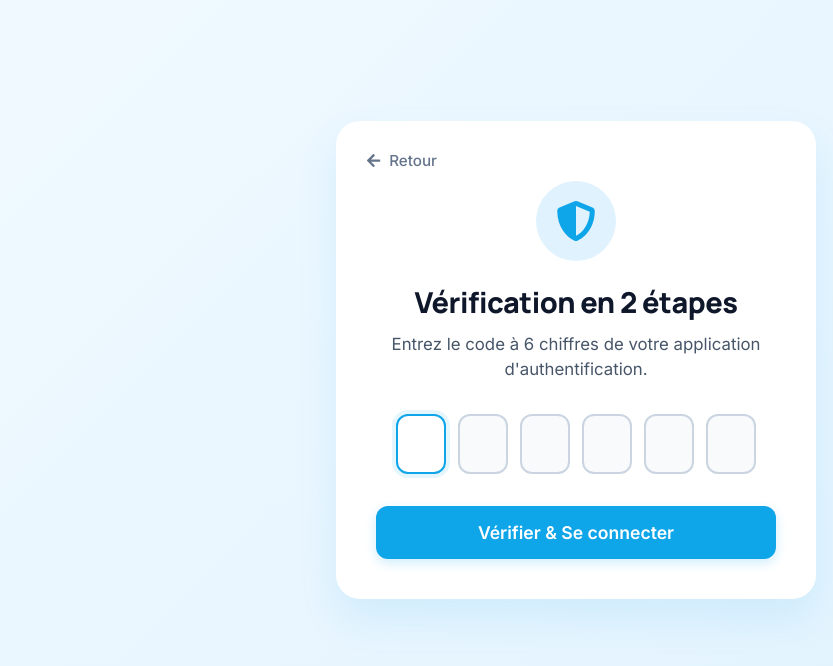
Auth2FA › exige les 6 chiffres
Type "1" into the 1st field with class "otp-digit-input" at point(421, 444), box [396, 414, 446, 474]
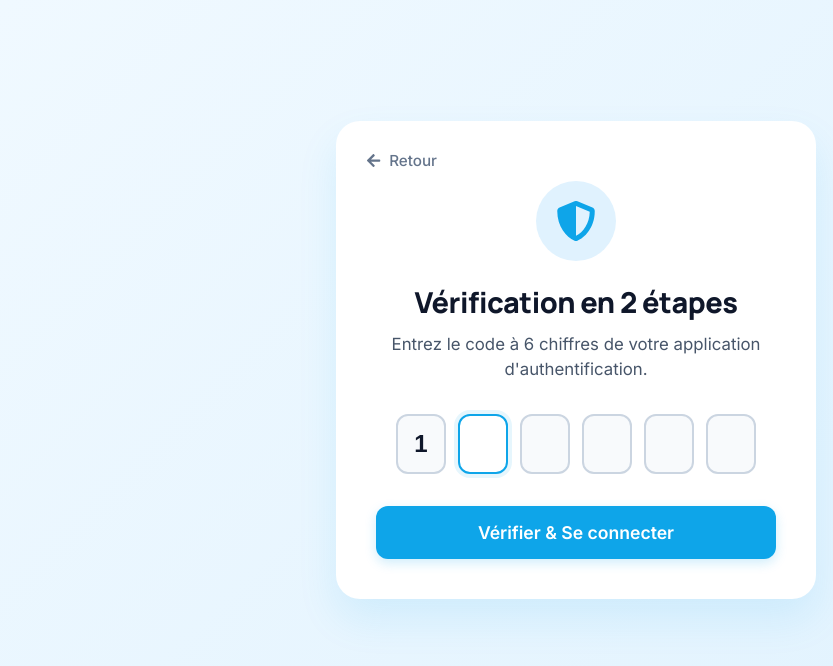
Type "2" into the 2nd field with class "otp-digit-input" at point(483, 444), box [458, 414, 508, 474]
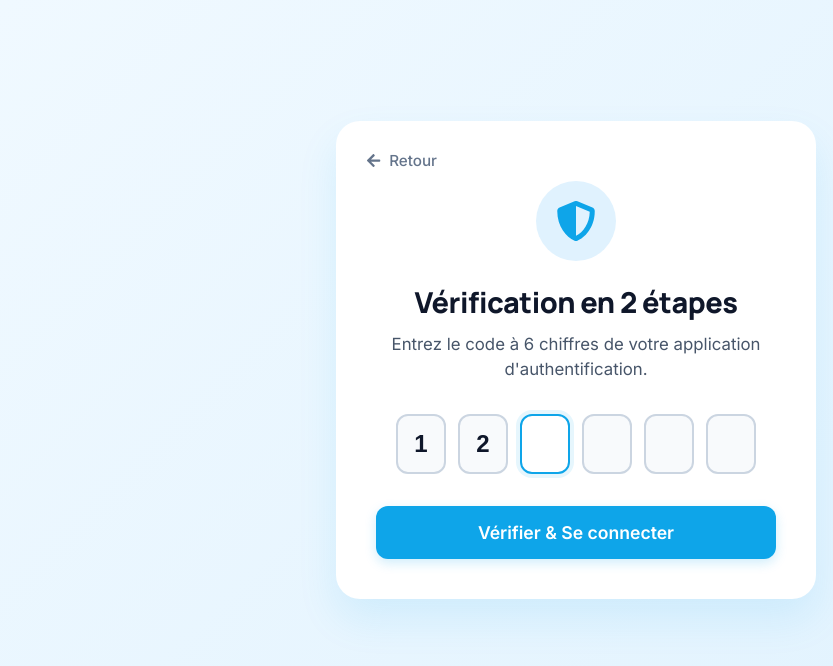
Type "3" into the 3rd field with class "otp-digit-input" at point(545, 444), box [520, 414, 570, 474]
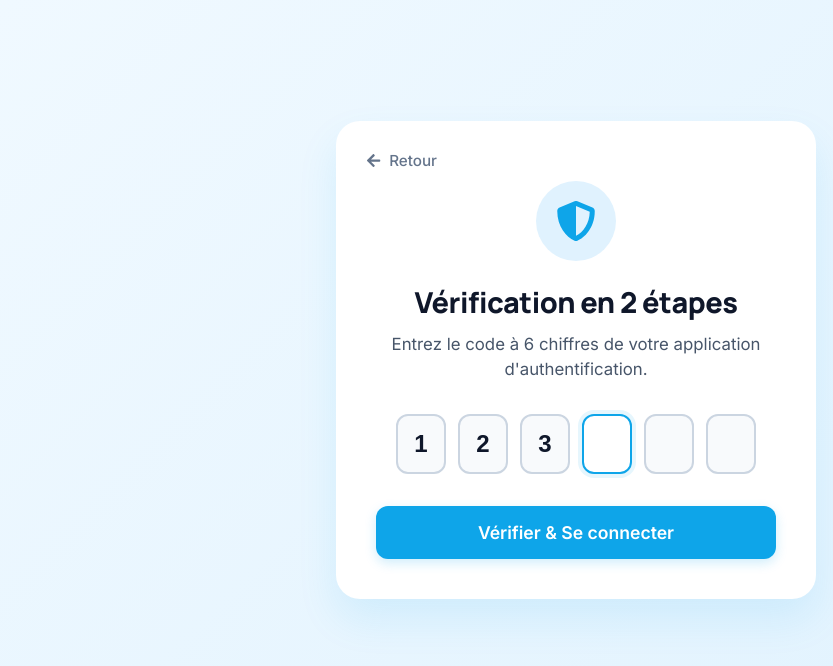
Submit the form, box [376, 414, 776, 559]
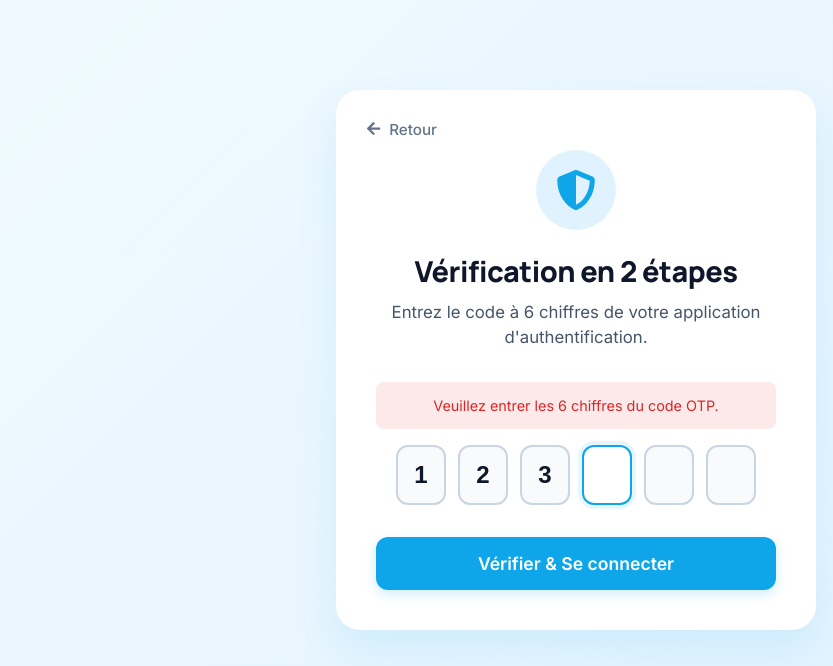
Now the text "Veuillez entrer les 6 chiffres du code OTP." is shown, box [376, 382, 776, 429]
